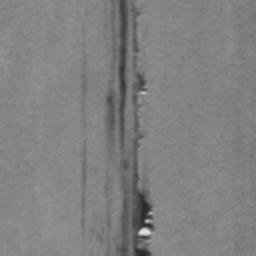Slag inclusion: (106, 0, 154, 256), (82, 145, 86, 225), (79, 60, 86, 96)
